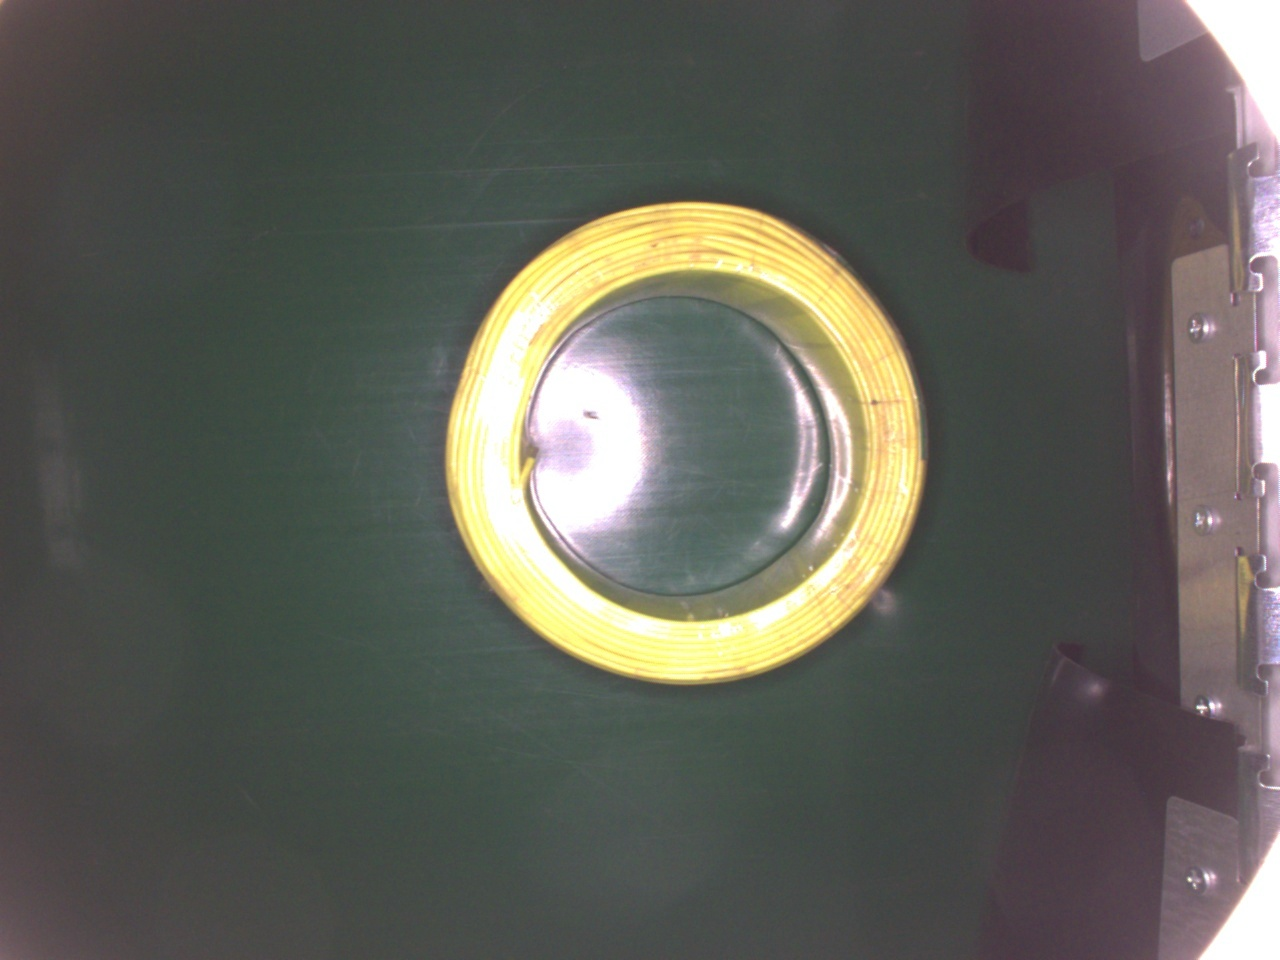yellow: (447, 195, 927, 689)
